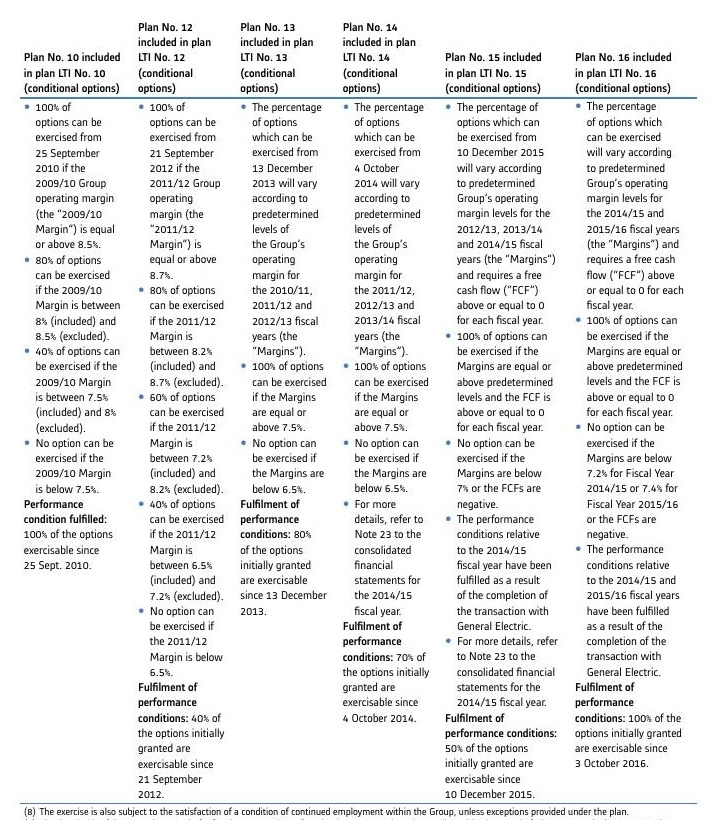table: (0, 0, 712, 820)
